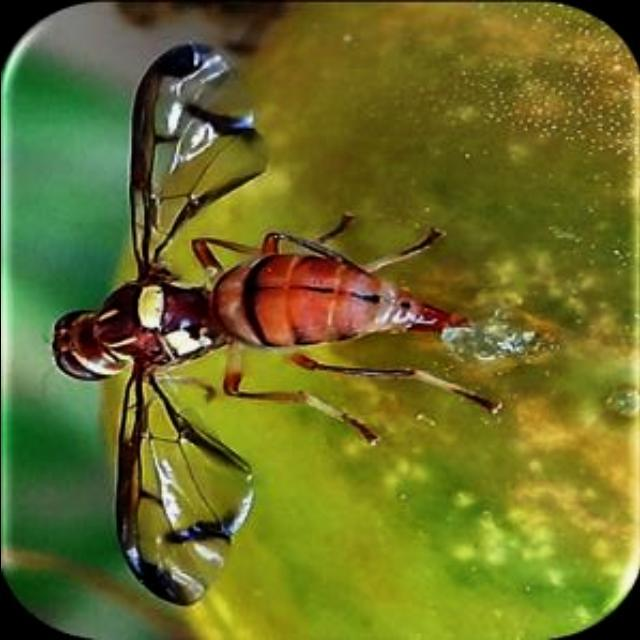melon fly: (38, 31, 556, 621)
